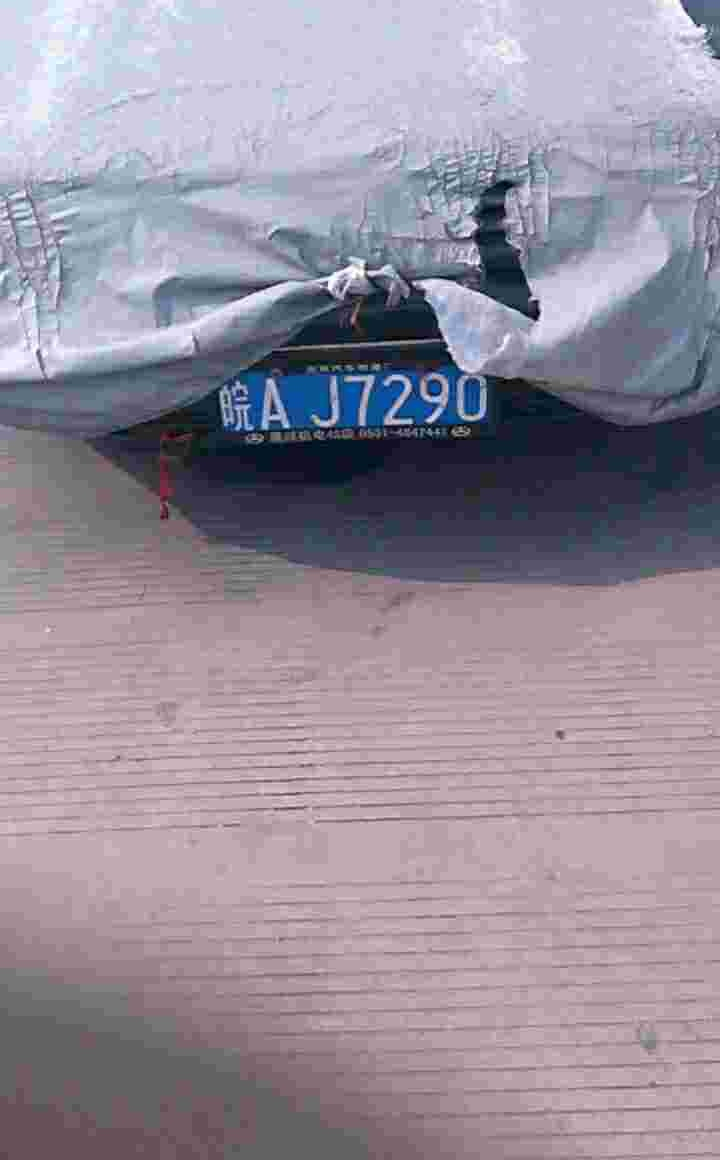license_plate: (204, 347, 497, 431)
